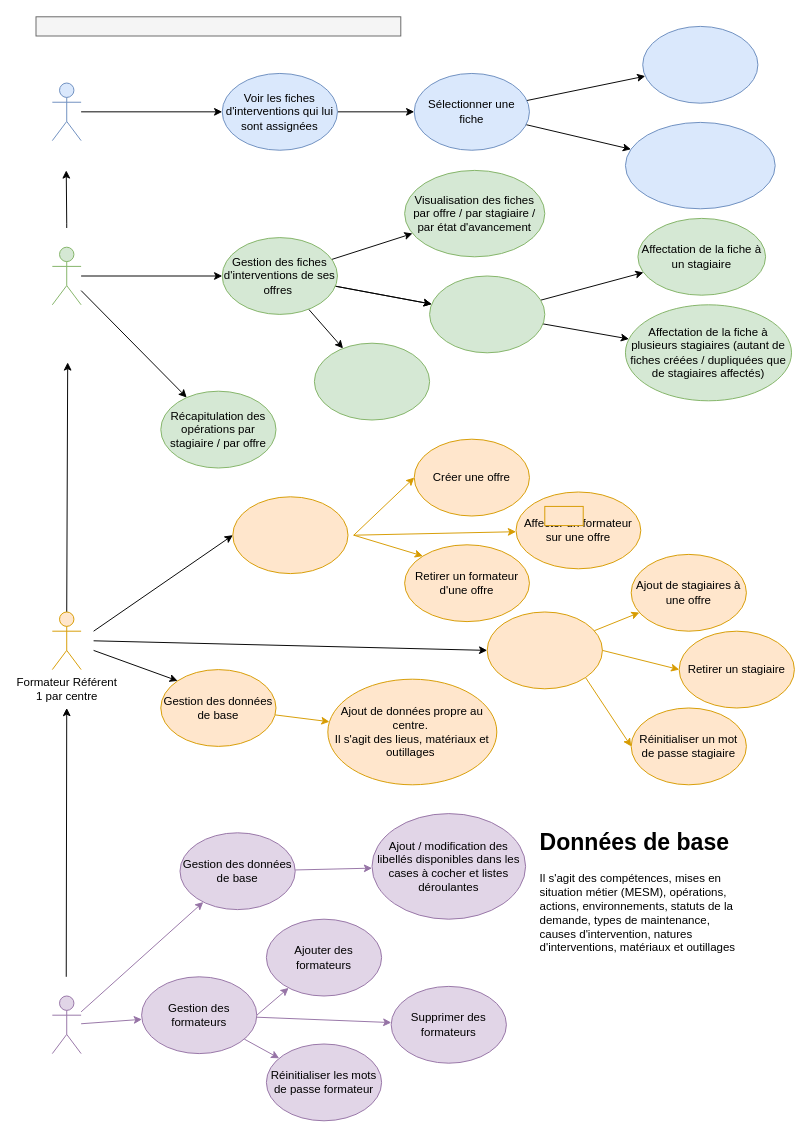
Image size: 811x1138. Some labels were removed from this diagram. The shapes that lost their labels are listed below. From the top down, each one's centre as x and y in pixels, then its label:
At (x=218, y=26): "Toutes ces actions ne sont disponible qu'après une connexion".
At (x=700, y=64): "Modifier ses donnéesde la fiche".
At (x=66, y=111): "Stagiaires".
At (x=699, y=165): "Ajouter une activité (si le travail n'est pas terminé en une action)".
At (x=66, y=275): "Formateur Co-formateur / Itinérent / Remplacant".
At (x=487, y=314): "Création de nouvelles fiches d'intervention".
At (x=371, y=381): "Valider une fiche d'intervention et y ajouter une appréciation".
At (x=290, y=535): "Gestion des offres".
At (x=563, y=515): "Text".
At (x=544, y=650): "Gestion des stagiaires".
At (x=66, y=1024): "Administrateur IF".
